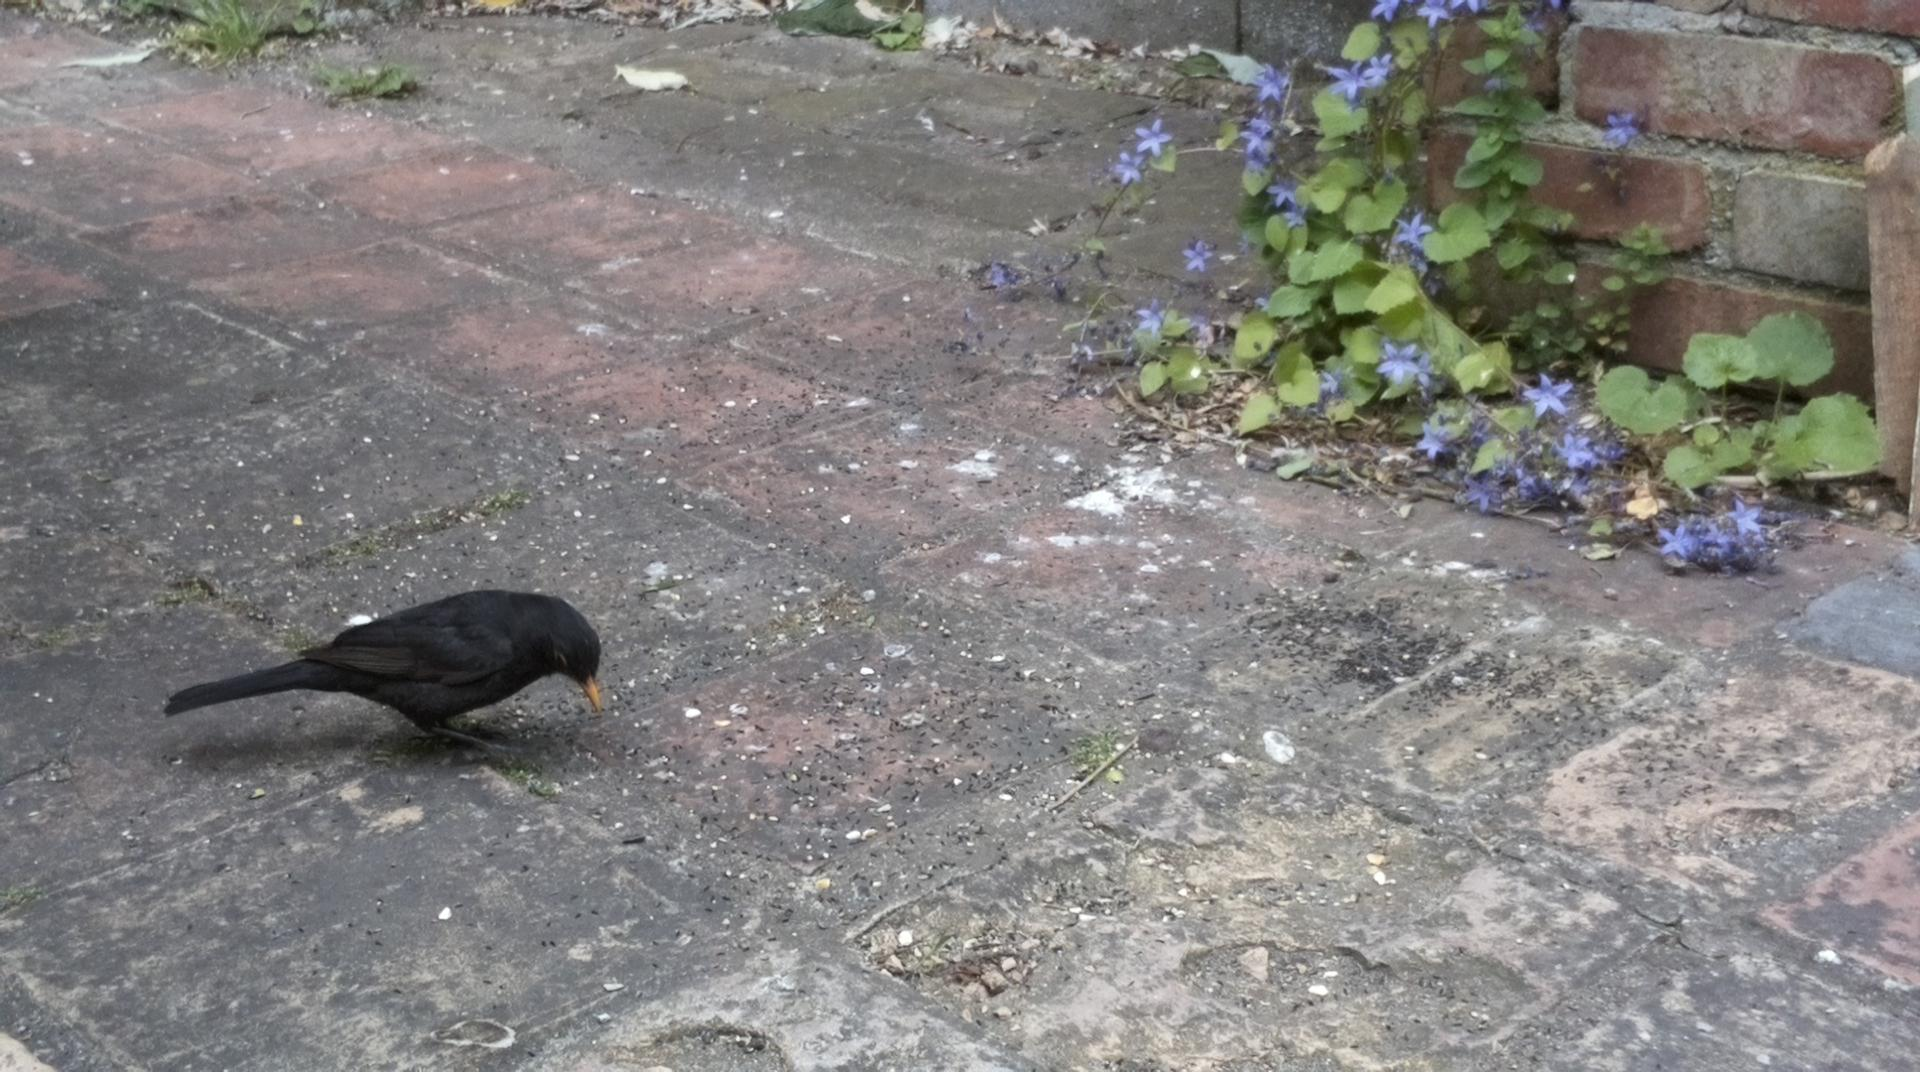blackbird: (164, 588, 603, 759)
